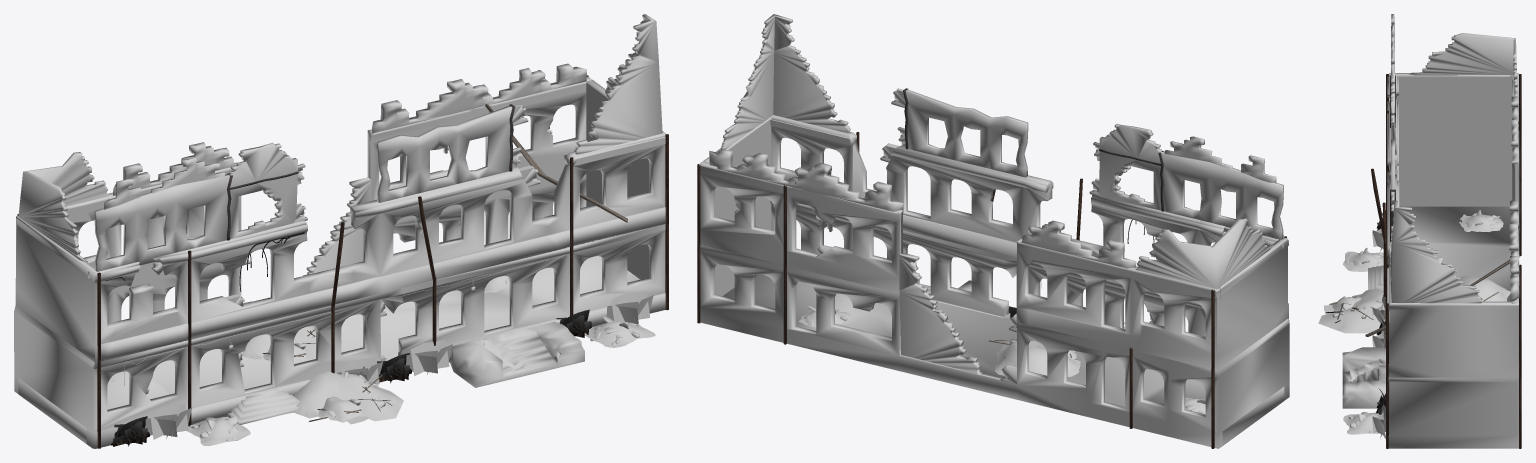
Rendered from long house yellow2 LOD0.fbx.
3 views of the same model, side by side, from view 1: azimuth 30°, elevation 25°; view 2: azimuth 150°, elevation 25°; view 3: azimuth 270°, elevation 25° (orthographic). The views are drawn at different scales.
Parts seen in each view (by area): view 1: long_house_yellow2_LOD0; view 2: long_house_yellow2_LOD0; view 3: long_house_yellow2_LOD0.
Part boxes in pixels (<box>): long_house_yellow2_LOD0: <box>14,14,668,448</box>; long_house_yellow2_LOD0: <box>697,14,1289,448</box>; long_house_yellow2_LOD0: <box>1318,14,1521,448</box>.
Bounding box in the file's own units: 25.43 × 12.36 × 9.41.
